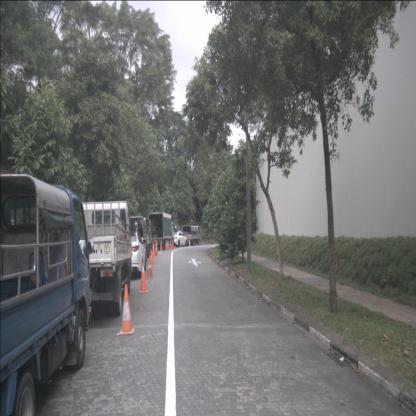movable_object-trafficcone: (119, 284, 135, 336), (138, 262, 148, 294), (146, 255, 154, 279), (149, 249, 154, 267), (154, 242, 158, 257), (152, 244, 156, 259), (160, 240, 163, 251), (167, 239, 170, 250), (166, 239, 169, 250), (171, 239, 174, 249), (165, 239, 167, 250), (170, 240, 172, 249), (189, 238, 191, 247)
vehicle-car: (106, 231, 146, 278), (170, 230, 188, 247)
vehicle-truck: (0, 173, 92, 415), (68, 200, 132, 316), (117, 216, 147, 267), (148, 212, 175, 251), (127, 218, 152, 258), (182, 225, 201, 246)
